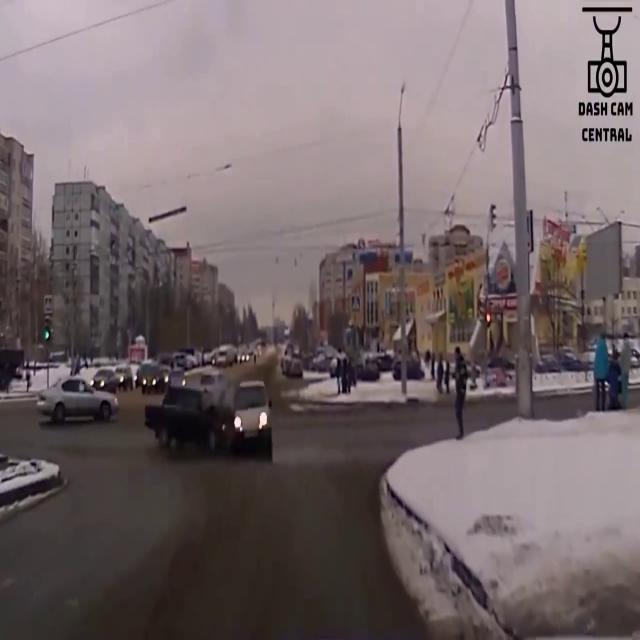accident: (146, 378, 274, 458)
